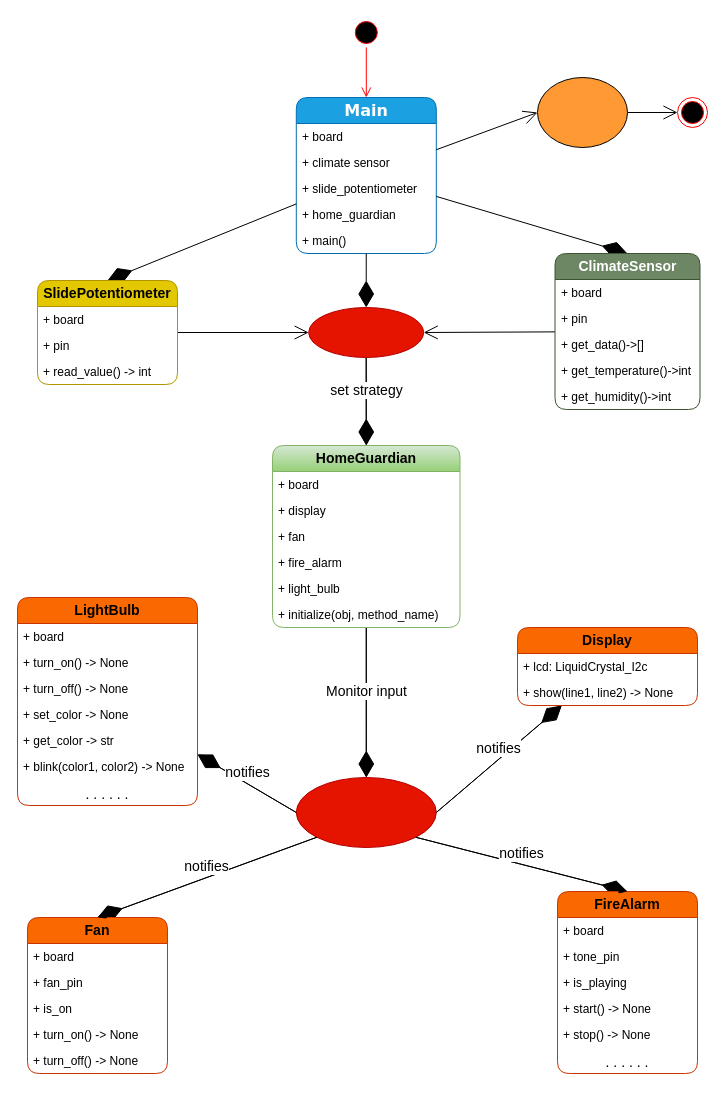
Some shapes in this 725 by 1094 pixel diagram are drawn without their labels. Each missing label, with the centre of its shape:
"Observer Pattern" belongs at point 365,812.
"STOP" belongs at point 582,112.
"Strategy Pattern" belongs at point 366,332.
